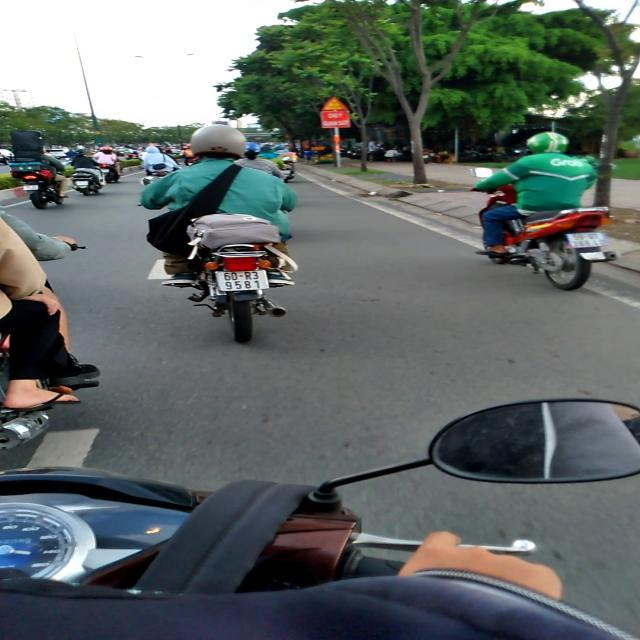Di cham: (321, 96, 349, 111)
